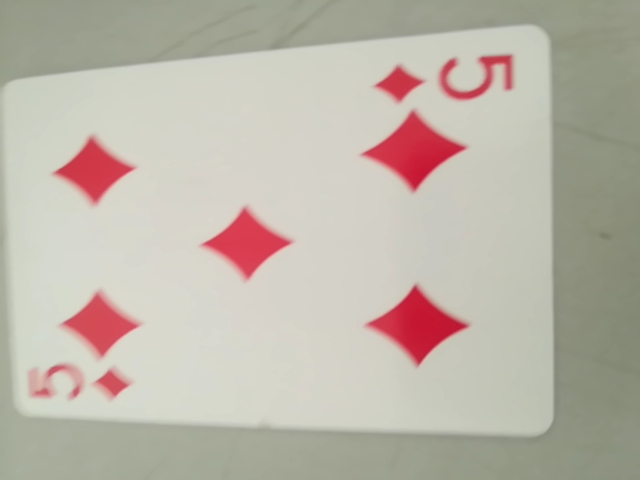fk 5: (372, 45, 520, 112), (17, 356, 139, 410)
